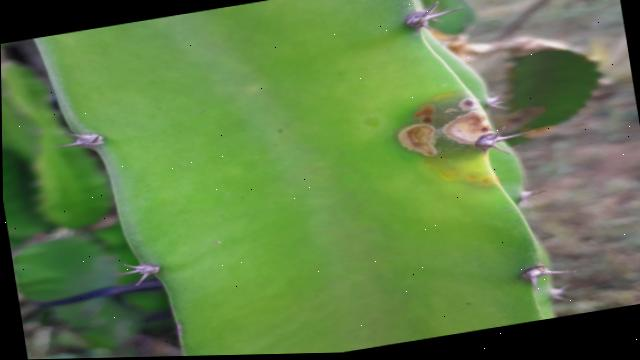stemcanker: (391, 89, 498, 184)
